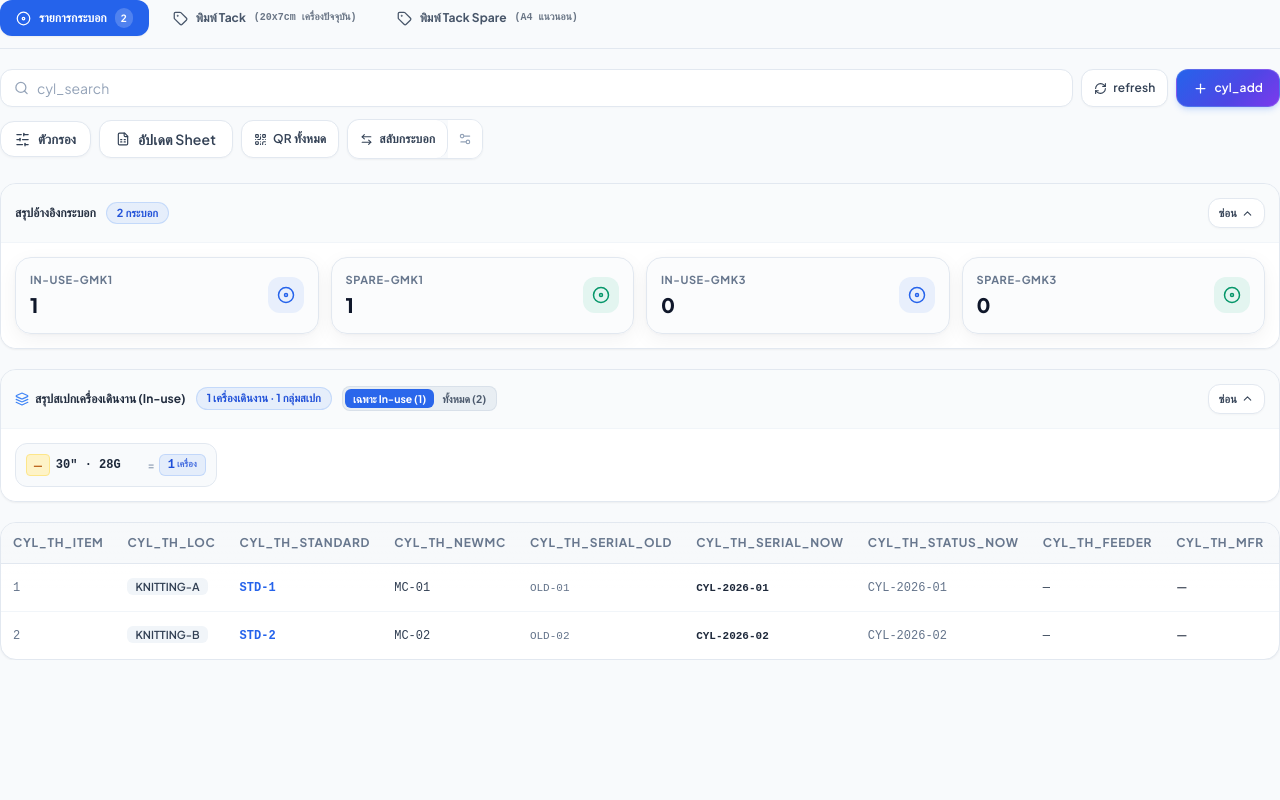
Test case: Cylinders Sub-tab "พิมพ์ Tack Spare" Integration › switches to "พิมพ์ Tack Spare" tab when clicking the sub-tab header
Note: The sub-tab button has text 'พิมพ์ Tack Spare' inside span
Click the button "พิมพ์ Tack Spare (A4 แนวนอน)" at (487, 18), box 381,2 -> 594,34
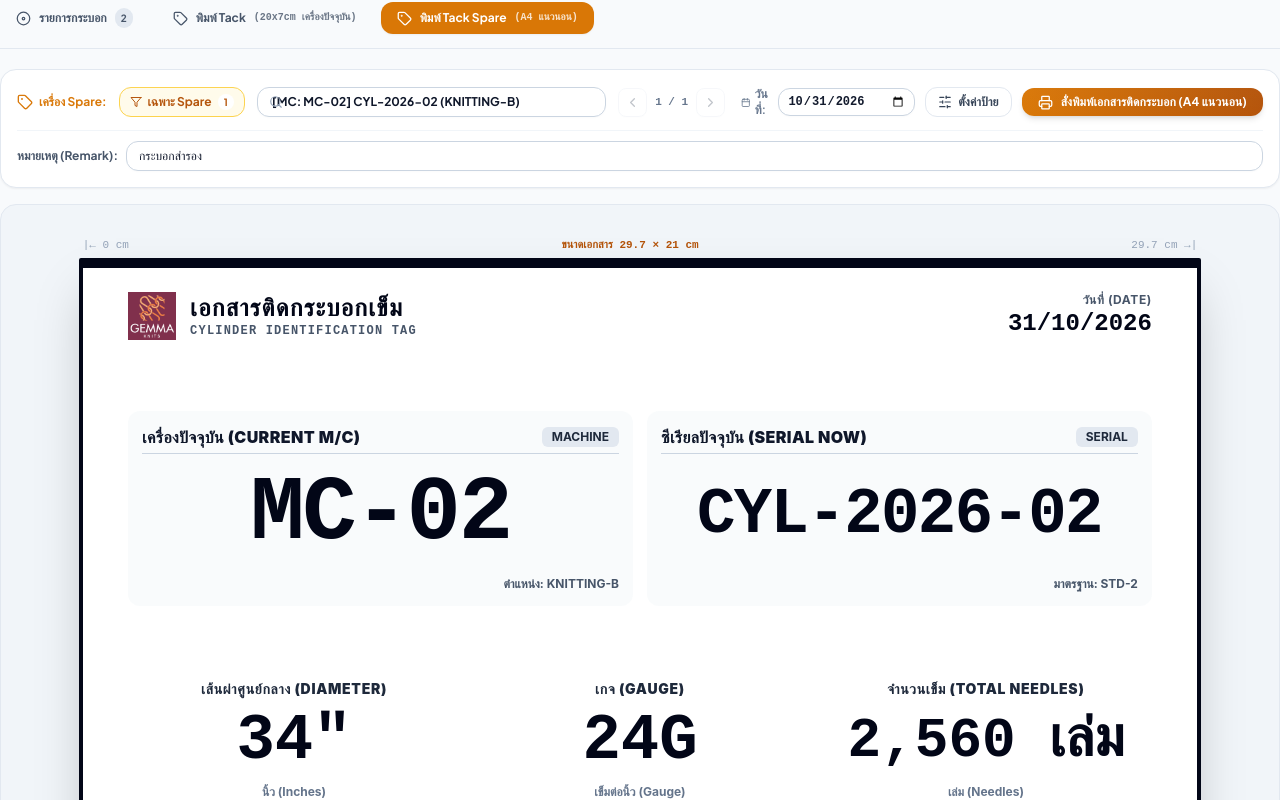
Now the heading "เอกสารติดกระบอกเข็ม" is shown, box 190,293 -> 417,323
Now the text "CYLINDER IDENTIFICATION TAG" is shown, box 190,323 -> 417,339
Now the button "สั่งพิมพ์เอกสารติดกระบอก (A4 แนวนอน)" is shown, box 1022,88 -> 1263,116
